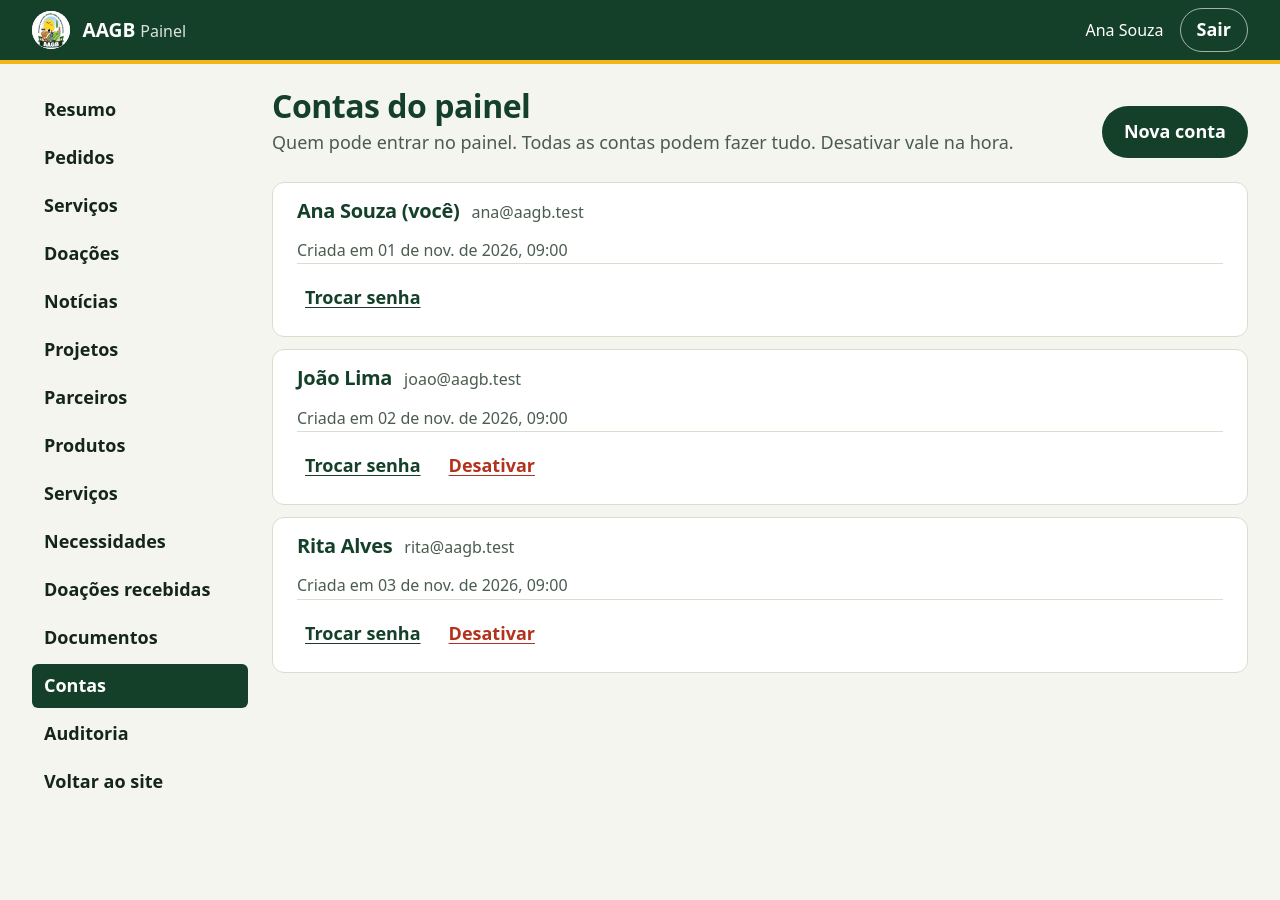
Scenario: contas: confirmação de senha › pede a senha, confirma e repete a ação sozinho
The image size is (1280, 900).
Click the button named "Desativar João Lima": coordinates (492, 466) left=441, top=444, right=543, bottom=488
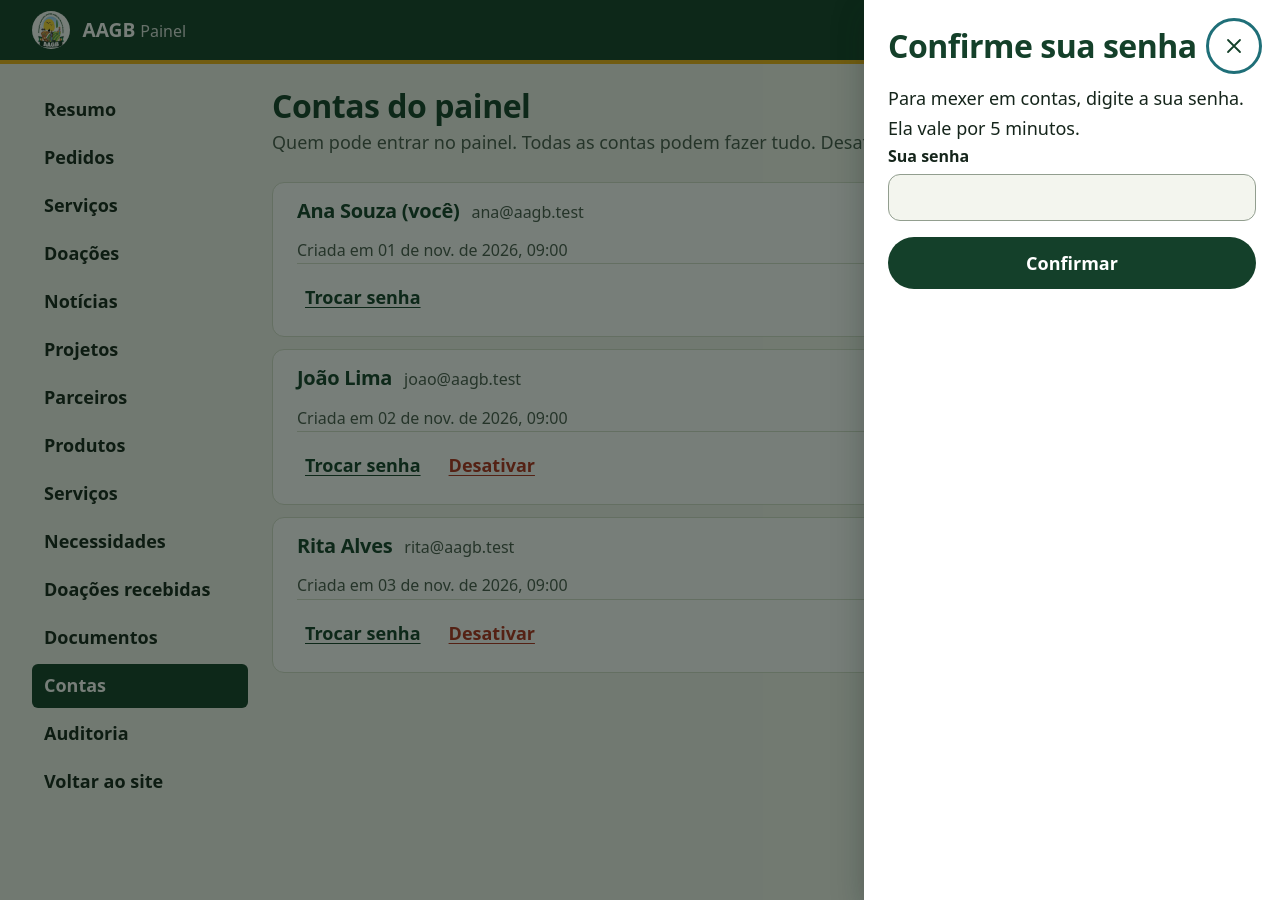
In the password field labelled "Sua senha": coordinates (1072, 198) left=888, top=174, right=1256, bottom=221, type "senha-certa-123"
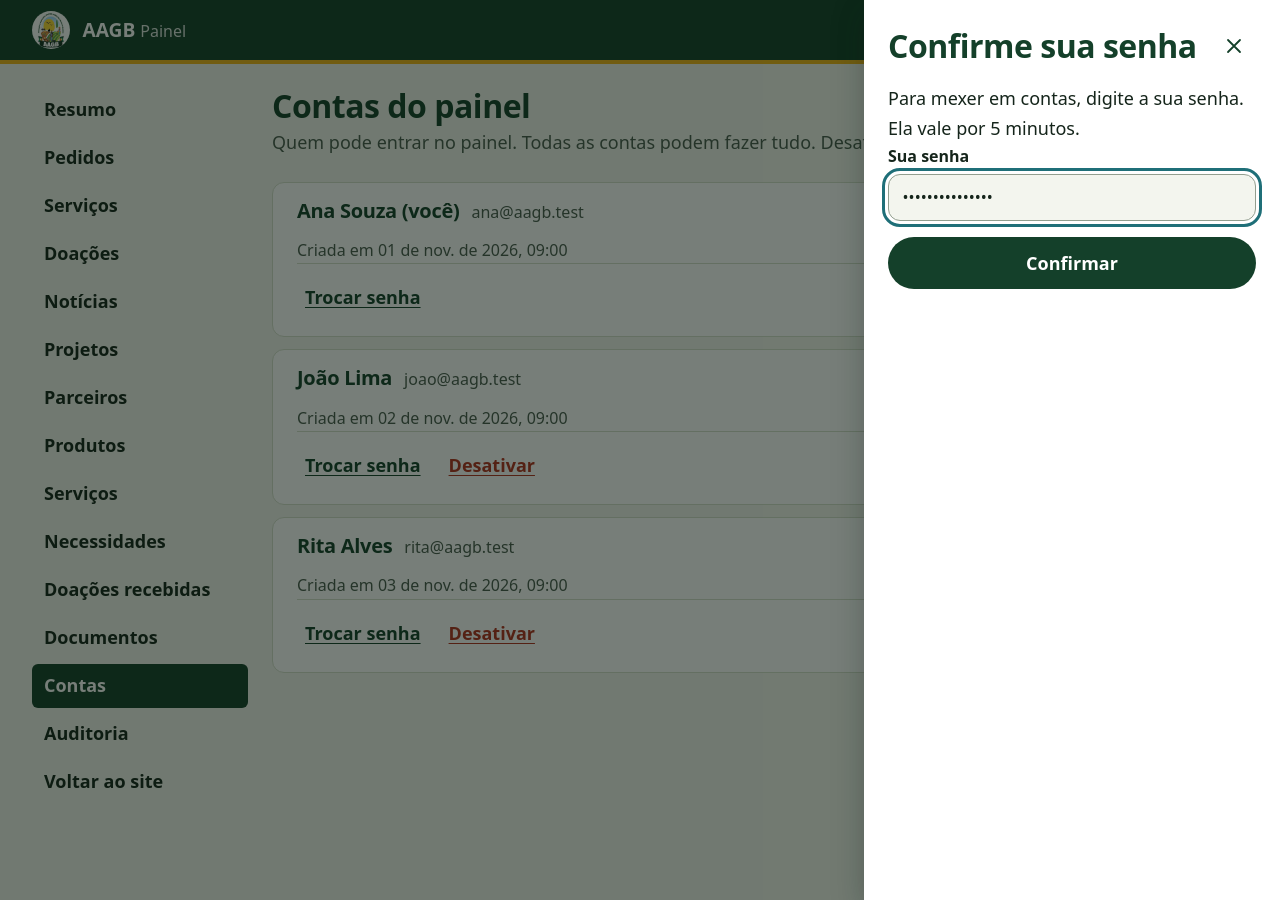
Click the button "Confirmar": coordinates (1072, 263) left=888, top=237, right=1256, bottom=289
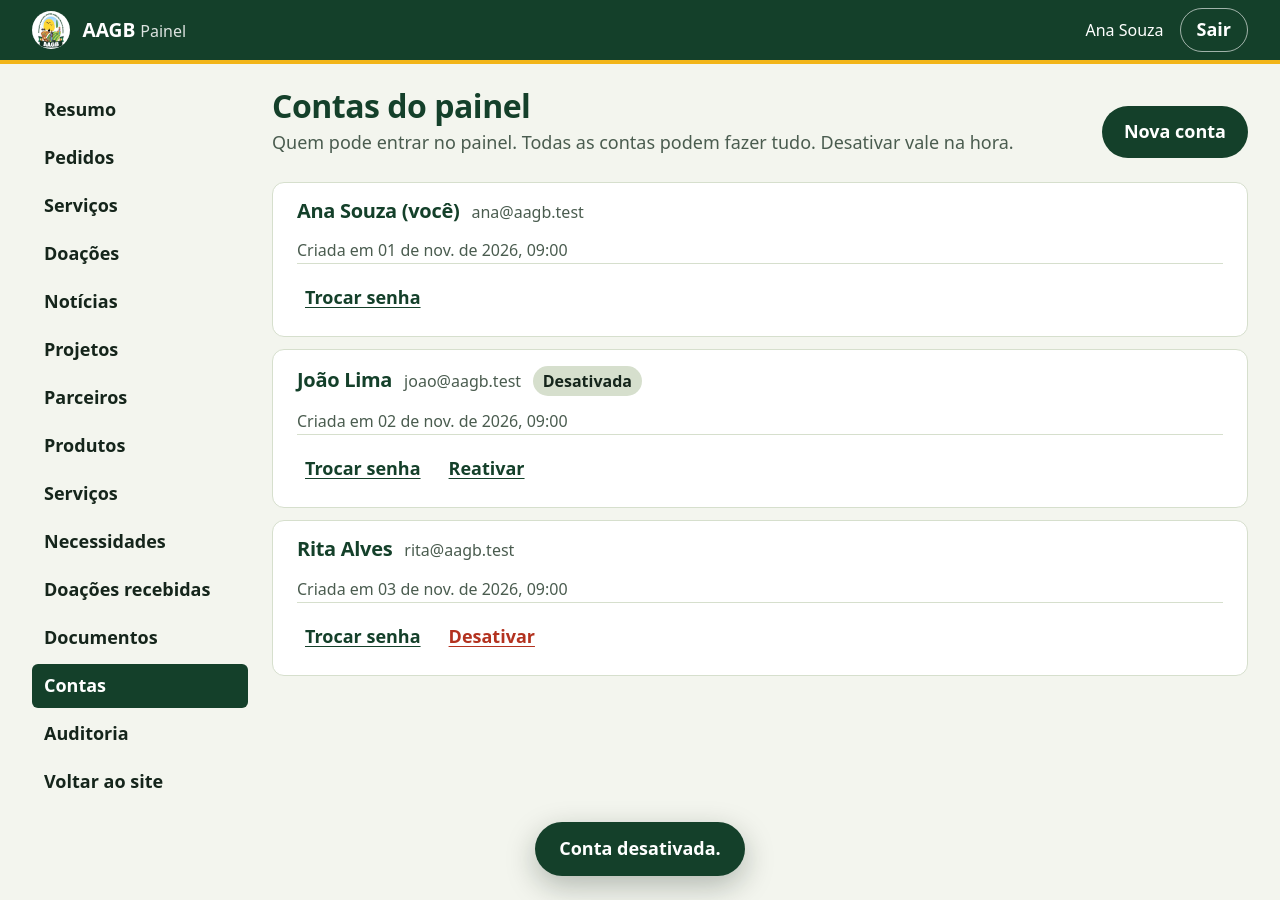
Check: the text "Conta desativada." is shown, box left=535, top=822, right=745, bottom=876
Check: the heading "Confirme sua senha" is gone
